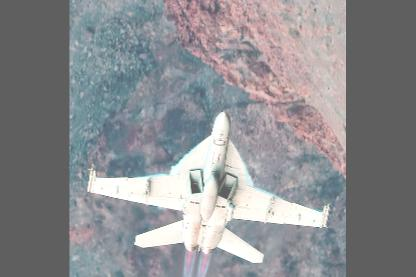F15: (87, 111, 330, 264)
